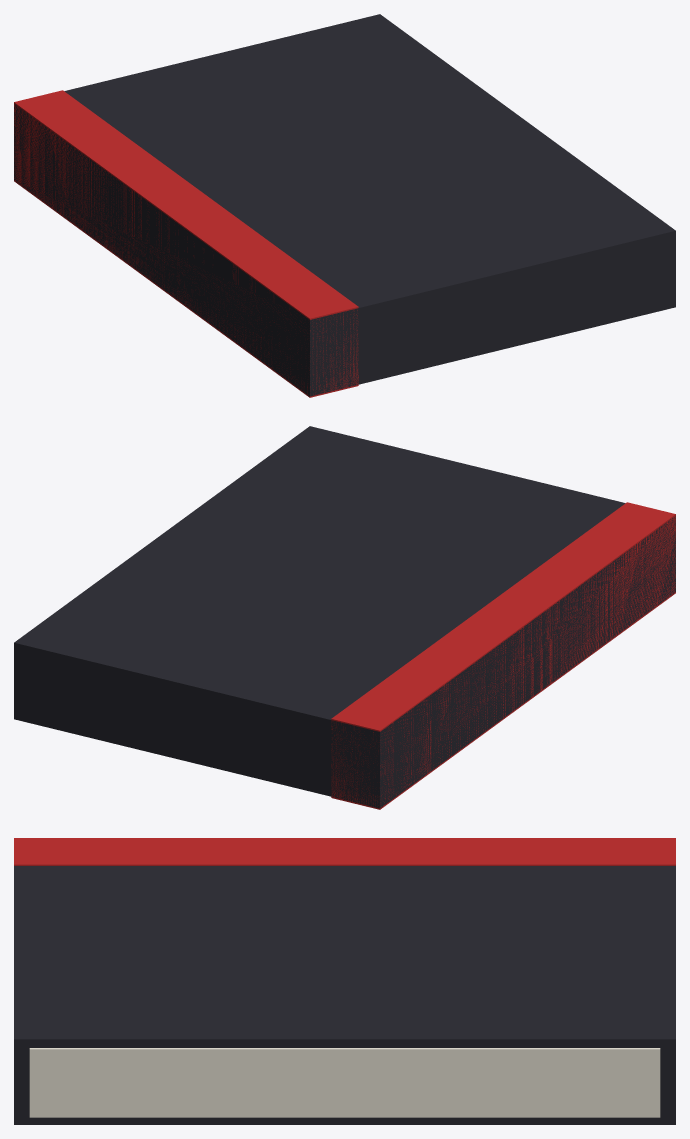
File: debt_book.glb
3 renders of one model, top to bottom at view 1: azimuth 30°, elevation 25°; view 2: azimuth 150°, elevation 25°; view 3: azimuth 270°, elevation 25°, orthographic. The views are drawn at different scales.
Parts seen in each view (by area): view 1: book_debt_cover, book_roulette_red; view 2: book_debt_cover, book_roulette_red; view 3: book_debt_cover, book_paper, book_roulette_red.
Boxes of the visible parts, x1,y1,x2,y2 form: book_debt_cover: [14, 14, 675, 396]; book_roulette_red: [14, 90, 358, 397]; book_debt_cover: [14, 426, 675, 808]; book_roulette_red: [331, 502, 675, 809]; book_debt_cover: [14, 866, 675, 1124]; book_paper: [29, 1048, 660, 1117]; book_roulette_red: [14, 838, 675, 865].
Size of the model in its own units: 0.151 by 0.031 by 0.21.
